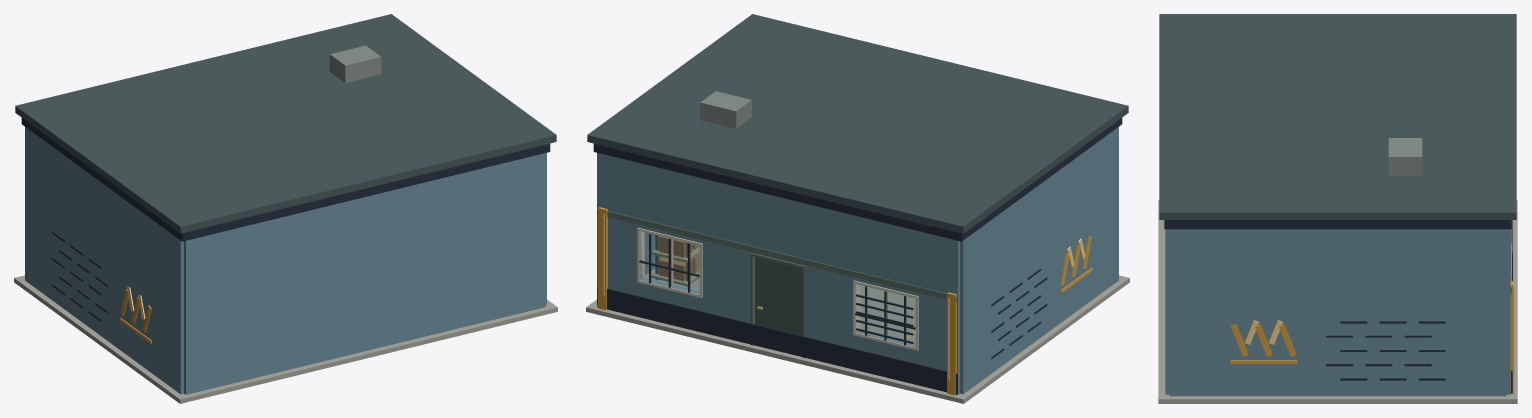
Rendered from warehouse.glb.
The picture shows the model from 3 angles, left to right: view 1: azimuth 30°, elevation 25°; view 2: azimuth 150°, elevation 25°; view 3: azimuth 270°, elevation 25°; orthographic projection. The views are drawn at different scales.
Parts seen in each view (by area): view 1: roof, back-wall, side-wall, foundation, cornice-outline, roof-vent; view 2: roof, front-wall (×7), side-wall (×2), painted-plinth, foundation, cornice-outline, window-glass (×2), door-panel, industrial-band, floor, corner-pilaster (×2), roof-vent; view 3: roof, side-wall, foundation, cornice-outline, roof-vent, back-wall, corner-pilaster, front-wall.
Boxes of the visible parts, x1,y1,x2,y2 form: roof: (15,14,556,233); back-wall: (184,153,545,394); side-wall: (25,127,183,394); foundation: (14,275,557,403); cornice-outline: (21,118,550,241); roof-vent: (329,45,381,82); roof: (587,14,1128,233); front-wall (×7): (598,153,959,394); side-wall (×2): (597,127,1118,394); painted-plinth: (597,286,957,394); foundation: (586,275,1129,403); cornice-outline: (593,118,1122,241); window-glass (×2): (642,232,914,344); door-panel: (755,257,802,335); industrial-band: (597,209,958,302); floor: (644,268,915,342); corner-pilaster (×2): (598,207,956,395); roof-vent: (700,91,751,128); roof: (1159,14,1516,219); side-wall: (1169,229,1506,396); foundation: (1158,200,1517,403); cornice-outline: (1164,220,1511,229); roof-vent: (1388,138,1422,175); back-wall: (1165,229,1169,394); corner-pilaster: (1510,281,1513,393); front-wall: (1506,229,1510,297).
Size of the model in its own units: 12.6 by 6.18 by 9.6.
